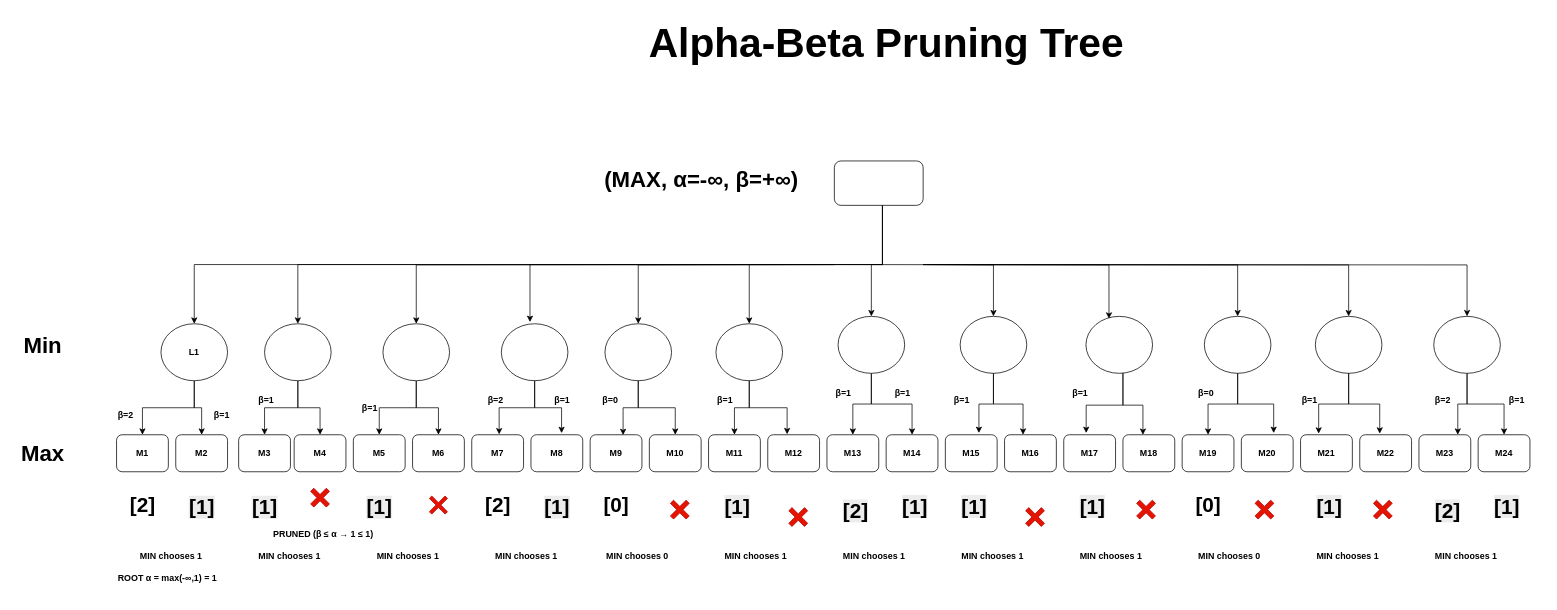
The diagram is 1557 pixels wide and 610 high, and some of its shapes have lost their labels. Each missing label, with the box of its shape:
L10: (1204, 316, 1271, 373)
L11: (1315, 316, 1382, 373)
L12: (1433, 316, 1500, 373)
L2: (264, 323, 331, 381)
L3: (382, 323, 450, 381)
L4: (501, 323, 568, 381)
L5: (604, 323, 672, 381)
L6: (715, 323, 783, 381)
L7: (837, 316, 905, 373)
L8: (959, 316, 1027, 373)
L9: (1085, 316, 1153, 373)
Root: (834, 160, 923, 205)
